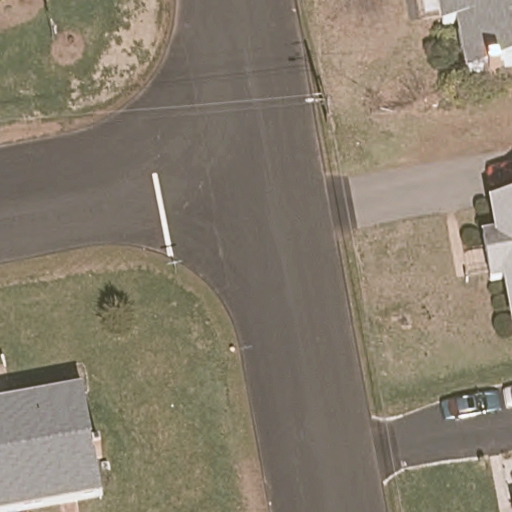DT: (304, 79, 333, 122)
